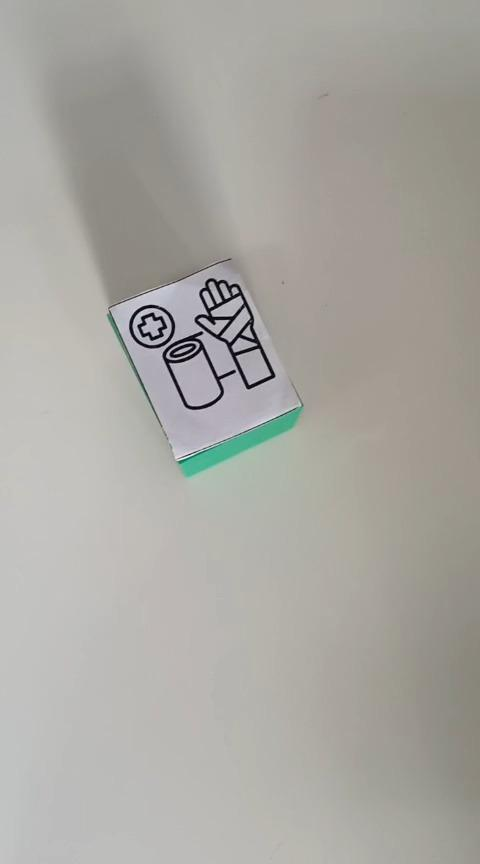Bandages: (106, 256, 303, 468)
